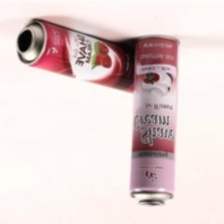aerosol_cans: (14, 16, 172, 109), (125, 33, 182, 208)
